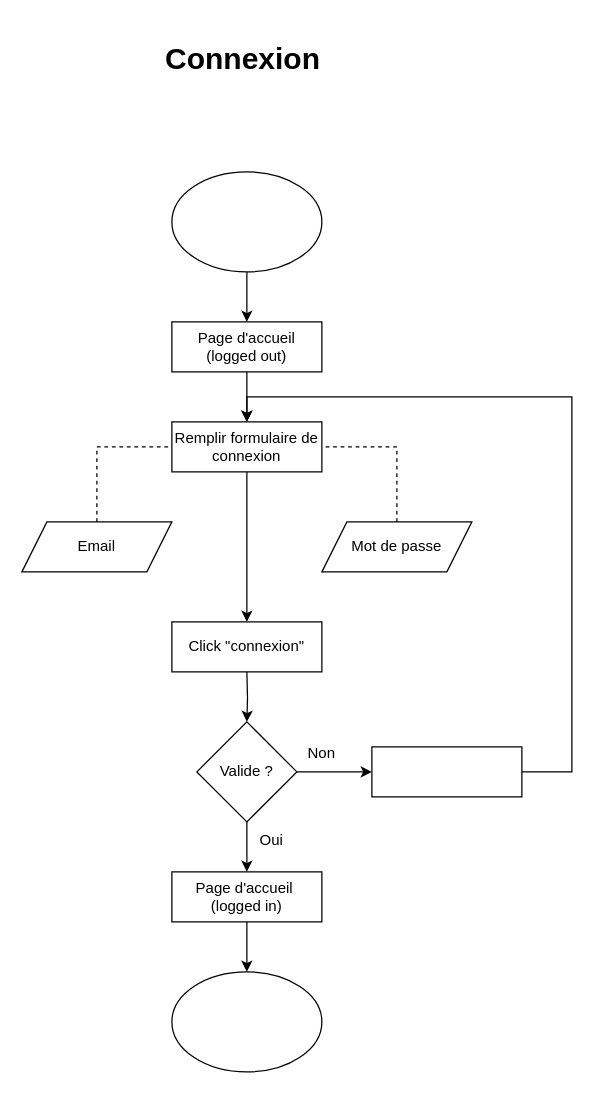
Image size: 604x1094. Some labels were removed from this diagram. Here are the shapes that lost their labels. From the top down, the centre of each, then its label:
At (246,221): "Begin".
At (446,771): "Mesage d'erreur".
At (246,1021): "End".
